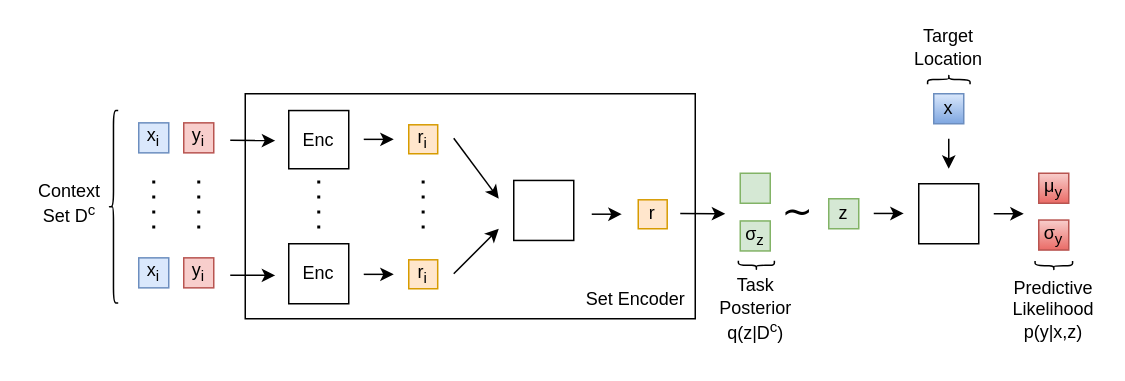
Some shapes in this 1125 by 381 pixel diagram are drawn without their labels. The centre of each missing label's shape, as x and y in pixels:
"Aggr" belongs at [543,209].
"Dec" belongs at [948,213].
"μ z" belongs at [754,187].
